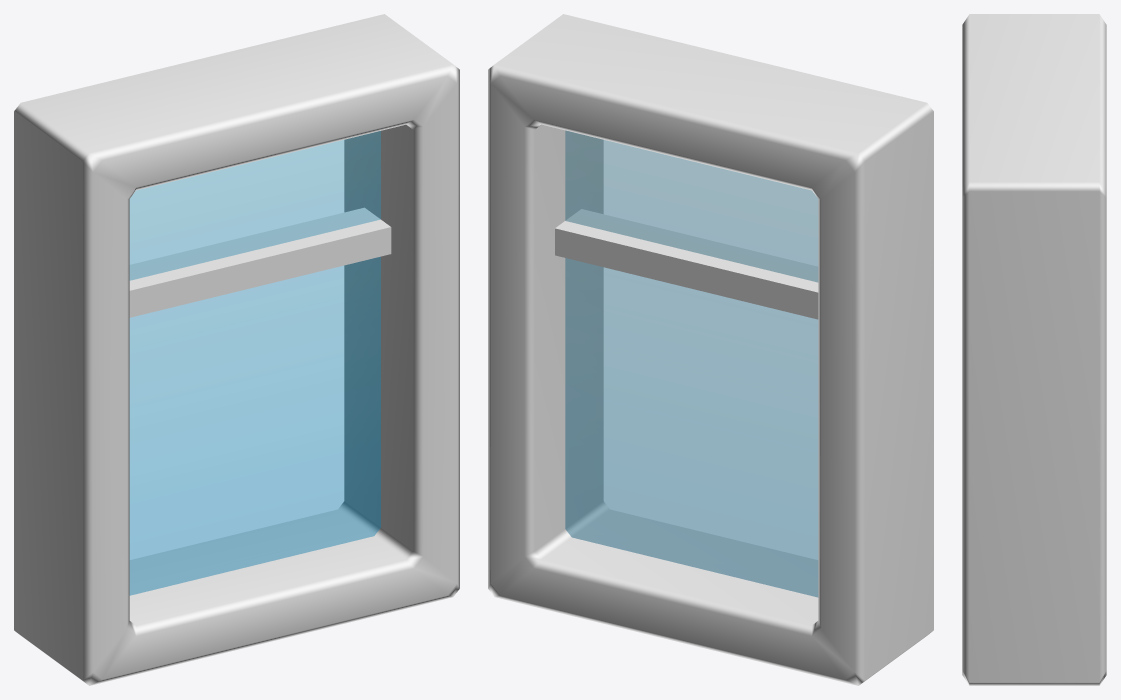
Rendered from Window_White_11.glb.
The picture shows the model from 3 angles, left to right: view 1: azimuth 30°, elevation 25°; view 2: azimuth 150°, elevation 25°; view 3: azimuth 270°, elevation 25°; orthographic projection. The views are drawn at different scales.
Visible parts, largest first — view 1: Window_White_11; view 2: Window_White_11; view 3: Window_White_11.
Boxes of the visible parts, <box> form: Window_White_11: <box>14,14,459,685</box>; Window_White_11: <box>488,14,933,685</box>; Window_White_11: <box>962,14,1106,685</box>.
Size of the model in its own units: 1.14 by 1.54 by 0.4.
2 materials, 2 textured.
